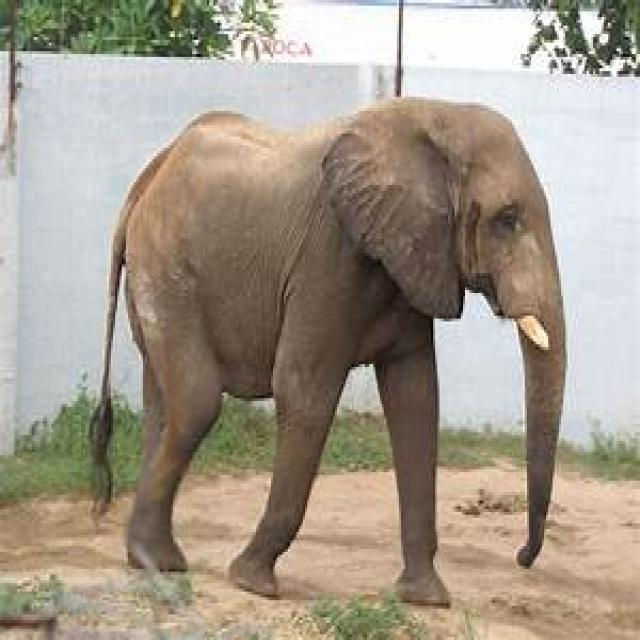elephant: (105, 97, 570, 609)
